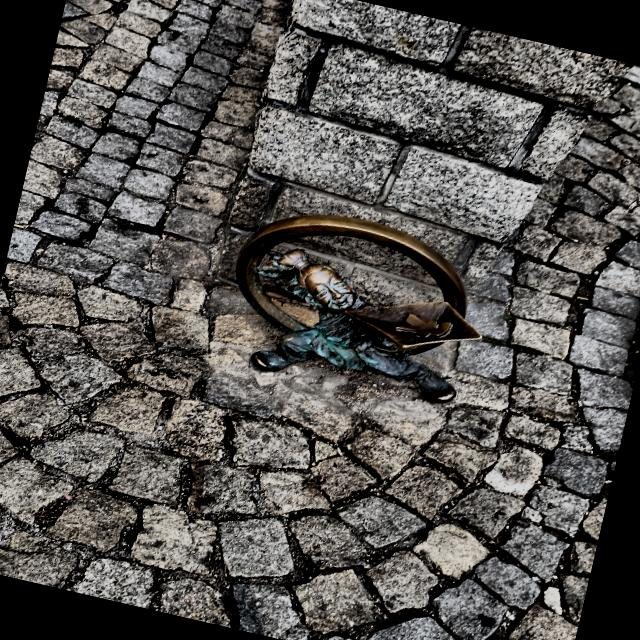TianTian: (235, 214, 481, 403)
